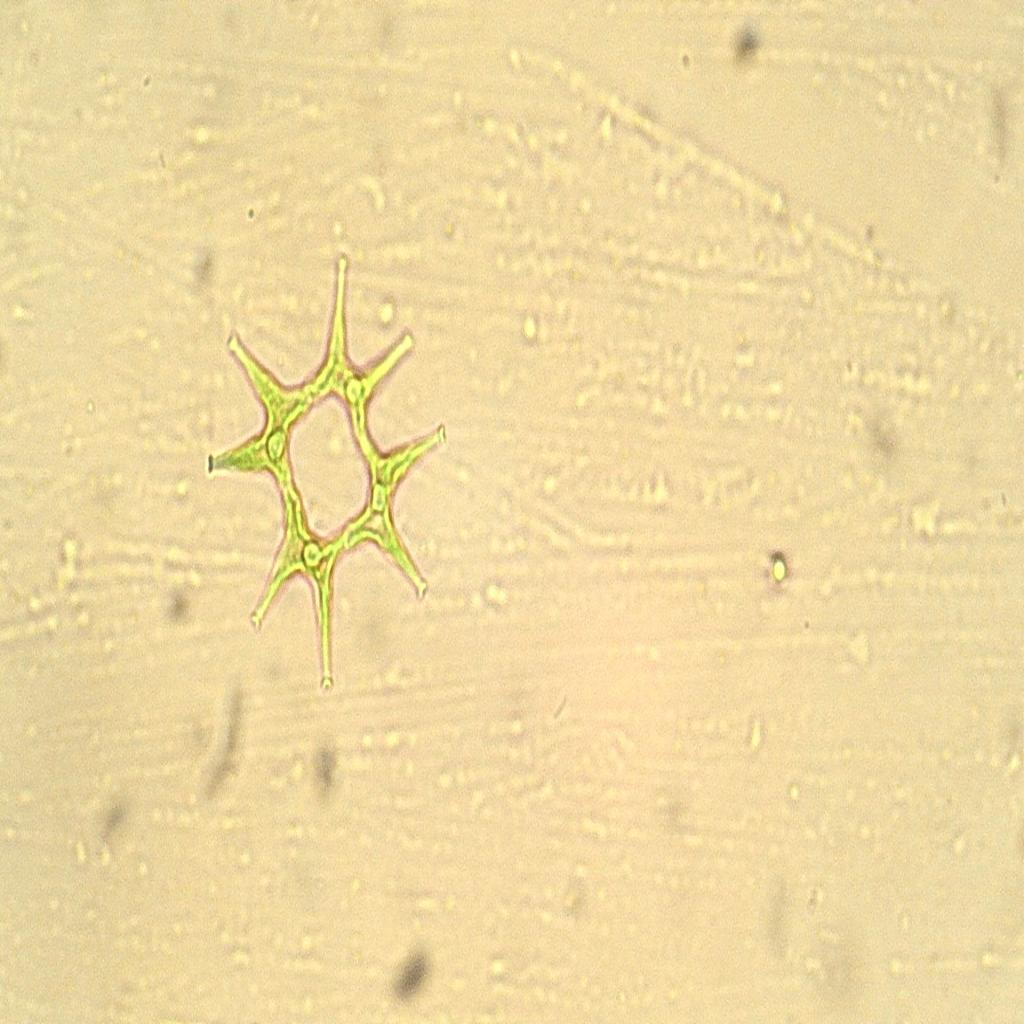Pediastrum_CO: (189, 237, 466, 699)
